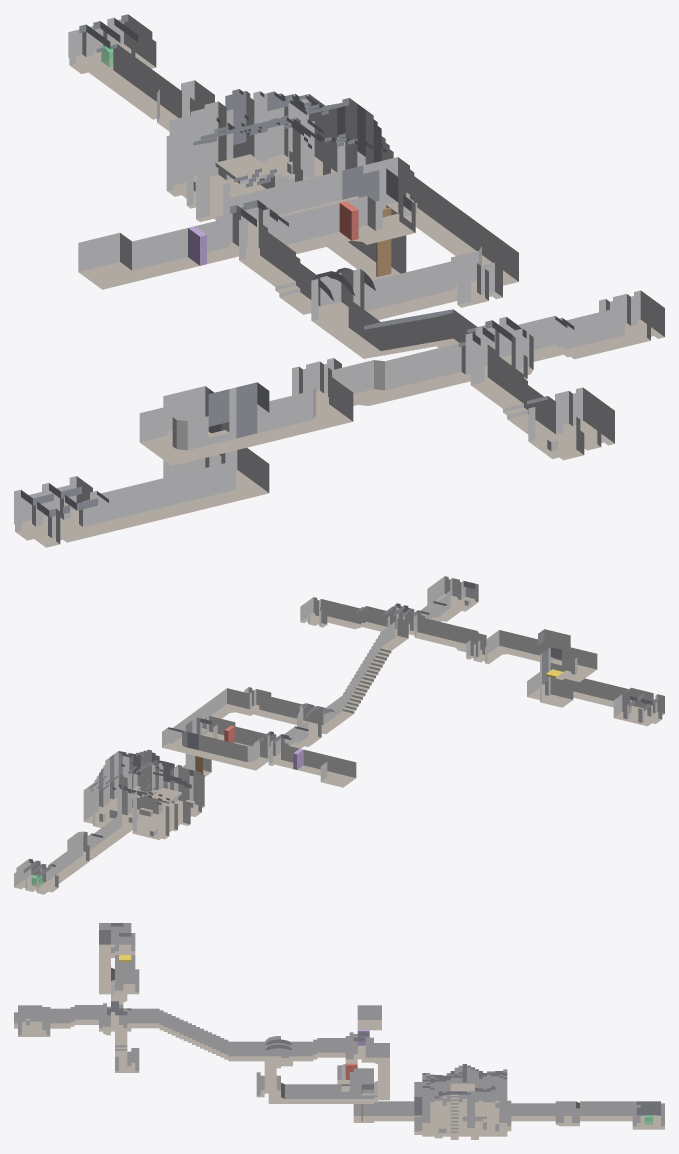
File: underground_1.glb
3 views of the same model, one above another, from view 1: azimuth 30°, elevation 25°; view 2: azimuth 150°, elevation 25°; view 3: azimuth 270°, elevation 25° (orthographic). The views are drawn at different scales.
Parts seen in each view (by area): view 1: level_geometry; view 2: level_geometry; view 3: level_geometry.
Part boxes in pixels (x1=…): level_geometry: x1=14, y1=14, x2=664, y2=547; level_geometry: x1=14, y1=576, x2=664, y2=894; level_geometry: x1=14, y1=923, x2=664, y2=1139.
Bounding box in the file's own units: 99 × 23 × 161.
